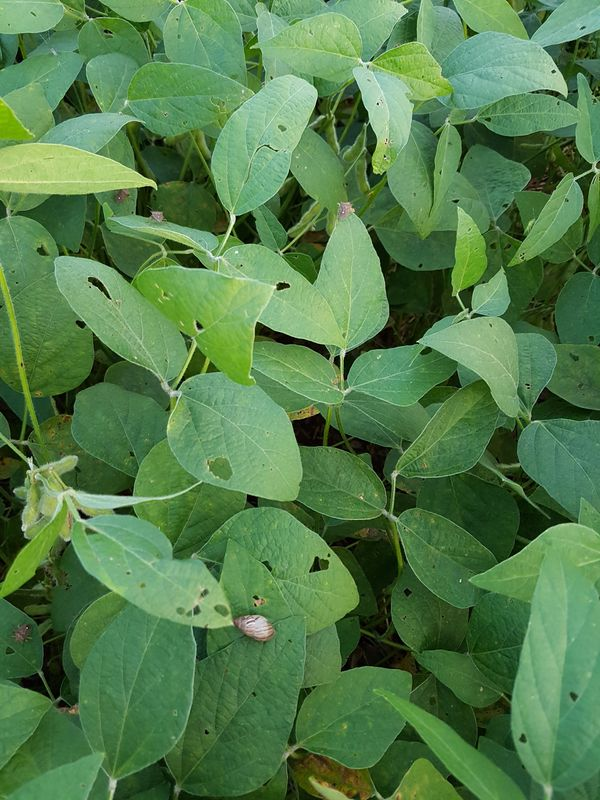Euschistus_heros_adulto: (7, 618, 38, 651), (332, 197, 359, 226), (144, 201, 170, 228), (111, 185, 133, 209)
Gastropoda: (228, 608, 284, 655)
